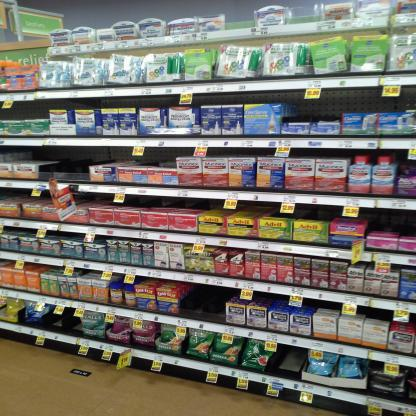Void: (186, 288, 224, 318), (324, 91, 378, 112), (58, 148, 91, 176), (373, 212, 411, 235), (292, 100, 320, 122), (279, 349, 303, 374), (58, 310, 83, 332), (153, 148, 177, 168), (101, 146, 124, 160)
